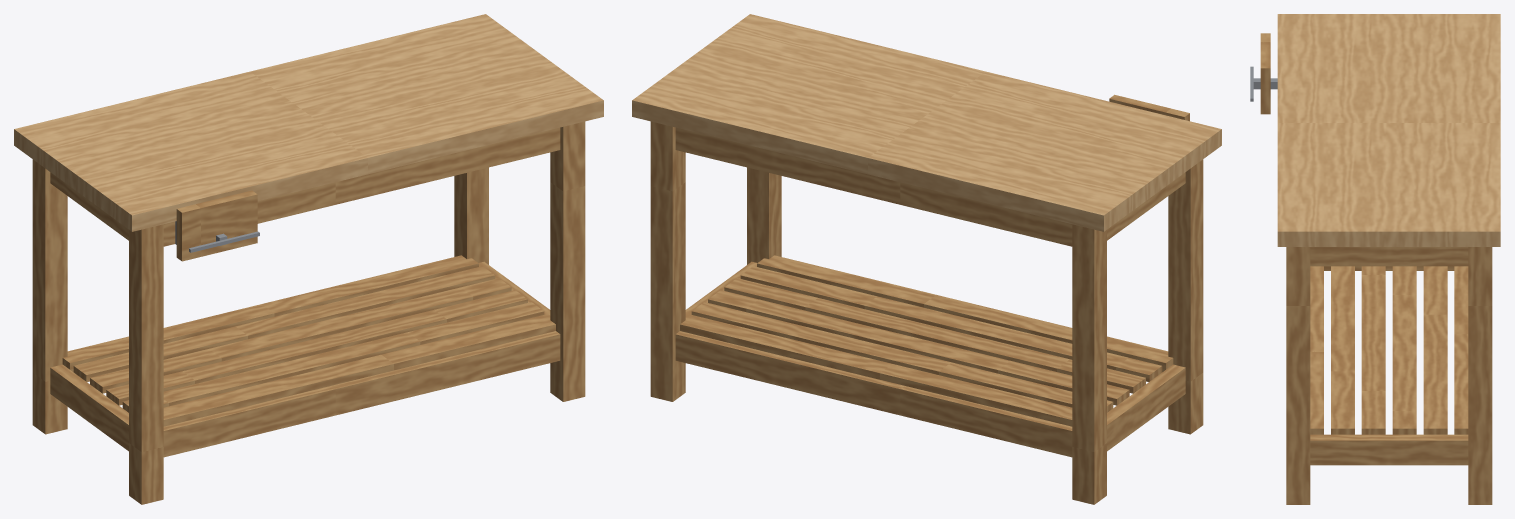
3 renders of one model, left to right at view 1: azimuth 30°, elevation 25°; view 2: azimuth 150°, elevation 25°; view 3: azimuth 270°, elevation 25°, orthographic. The views are drawn at different scales.
Visible parts, largest first — view 1: Workbench with vice; view 2: Workbench with vice; view 3: Workbench with vice.
Part boxes in pixels (x1,y1,x2,y2): Workbench with vice: [14, 14, 603, 504]; Workbench with vice: [632, 14, 1221, 504]; Workbench with vice: [1250, 14, 1500, 504].
Bounding box in the file's own units: 1.5 × 0.9 × 0.73.
3 materials, 2 textured.
